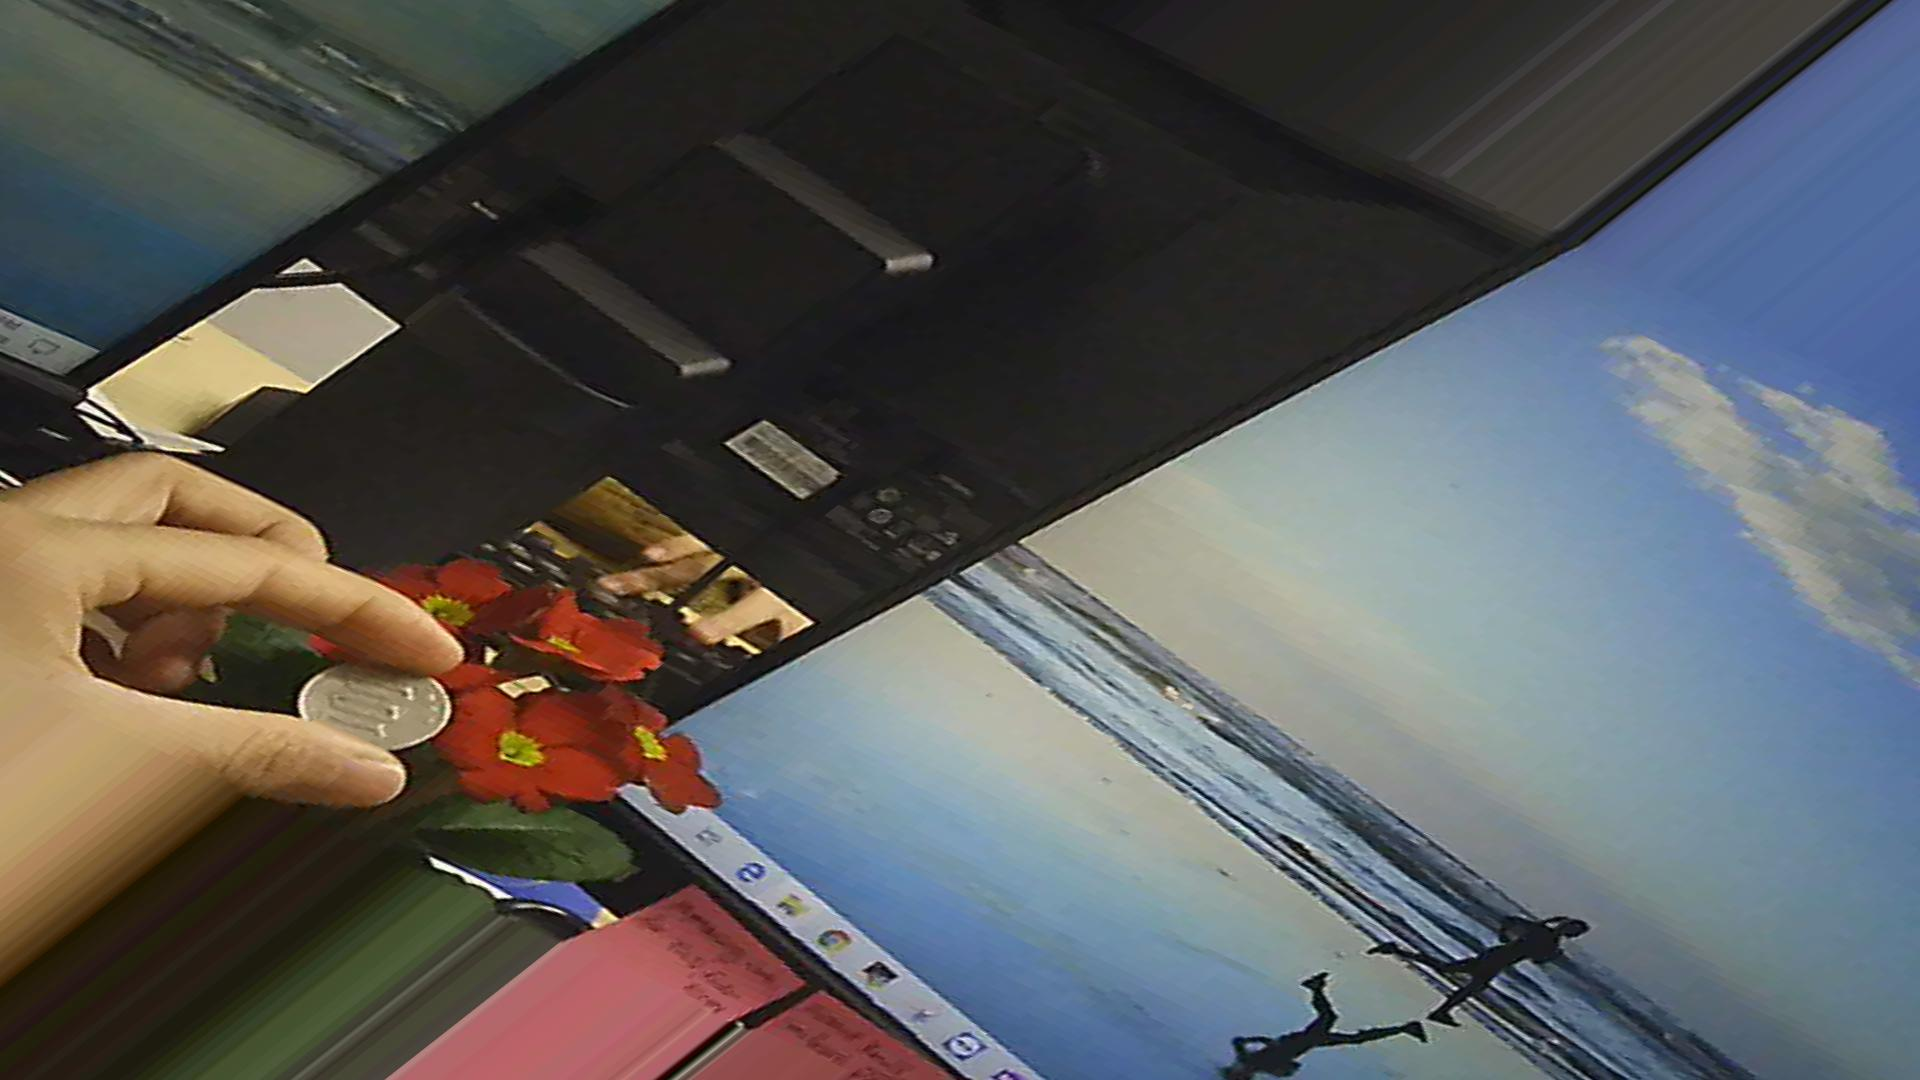100 Yen: (284, 646, 455, 774)
